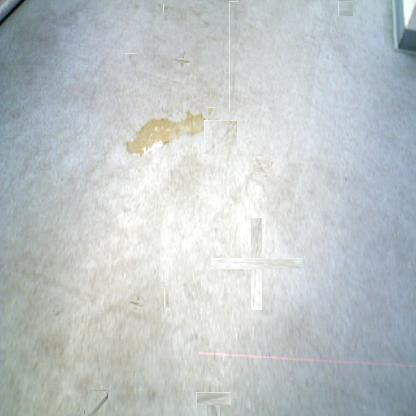liquid: (124, 109, 208, 157), (207, 108, 216, 116)
mark: (231, 238, 282, 290), (204, 120, 237, 154), (229, 1, 238, 112), (84, 390, 108, 416), (186, 4, 210, 28), (202, 387, 225, 410), (252, 157, 274, 179), (338, 1, 353, 16), (130, 296, 144, 310), (176, 53, 190, 66), (124, 54, 137, 67), (164, 286, 169, 308), (342, 171, 348, 183), (163, 4, 170, 12), (162, 13, 168, 21), (156, 2, 161, 10)
